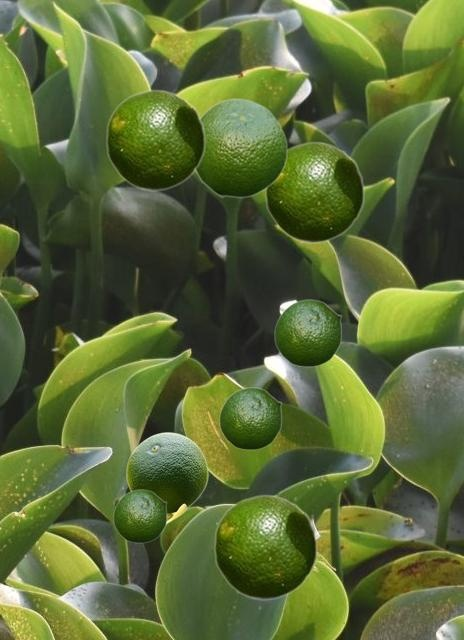calamansi: (213, 494, 317, 599), (264, 141, 364, 242), (105, 89, 205, 190), (195, 97, 287, 197), (126, 432, 207, 524), (274, 299, 341, 366), (219, 387, 281, 449), (113, 489, 166, 542)
